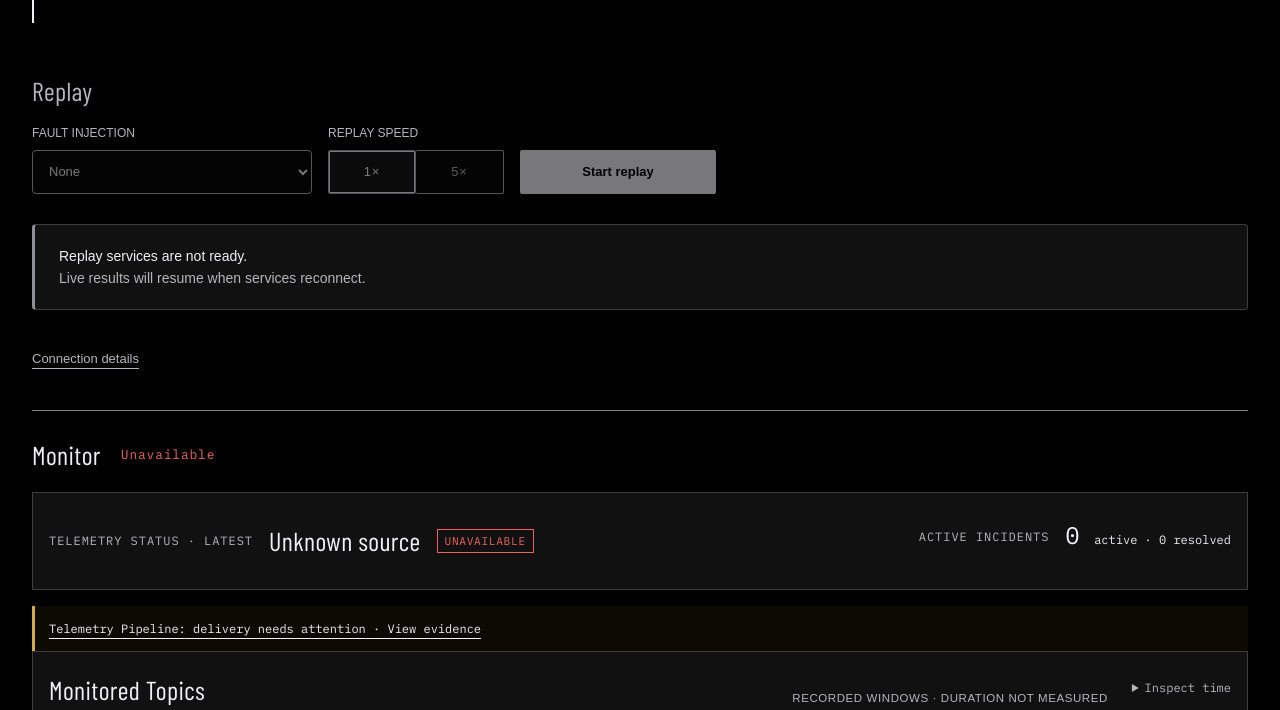
ROS Workbench › does not preserve healthy state when a streaming authority is unavailable
(page scrolled)
Expected: the 1st text "unavailable" is shown, [121, 447, 215, 464]
What coordinates should you click on to do the following:
click the text "Connection details"
I would click on:
 (86, 358)
Its box is [32, 349, 139, 368].
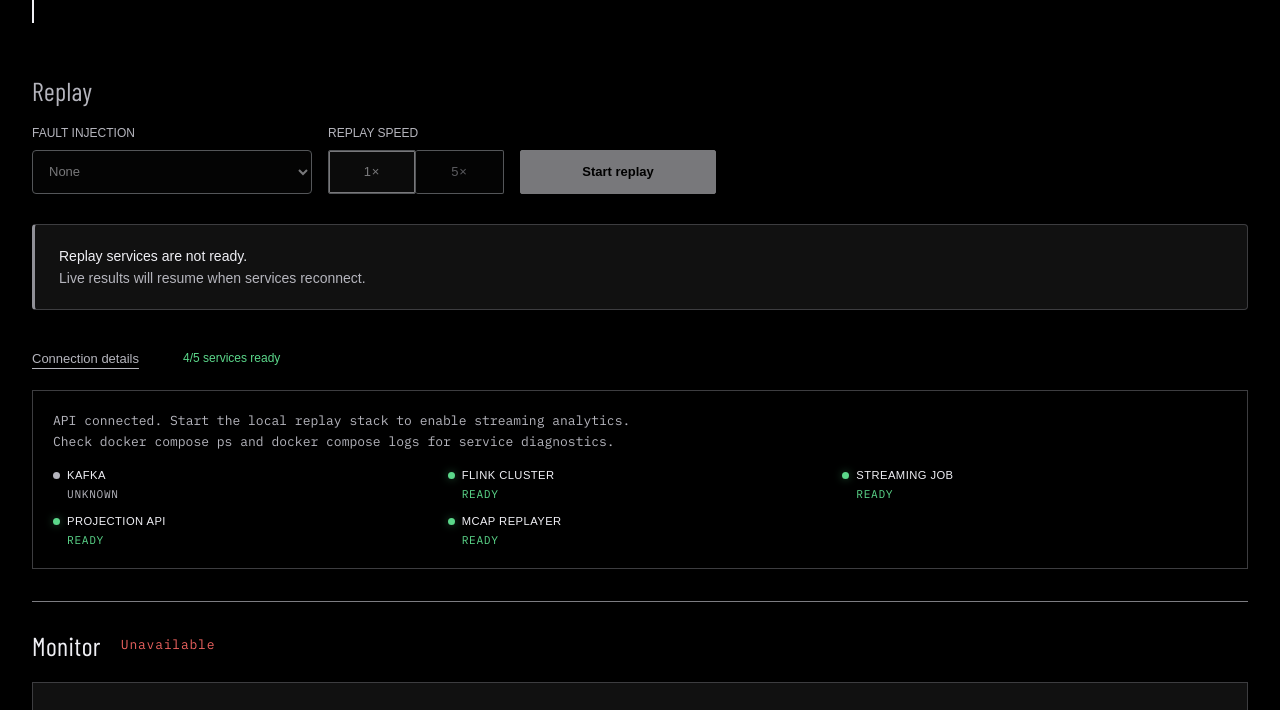
Expected: the text "docker compose ps" is shown, [100, 433, 232, 450]
